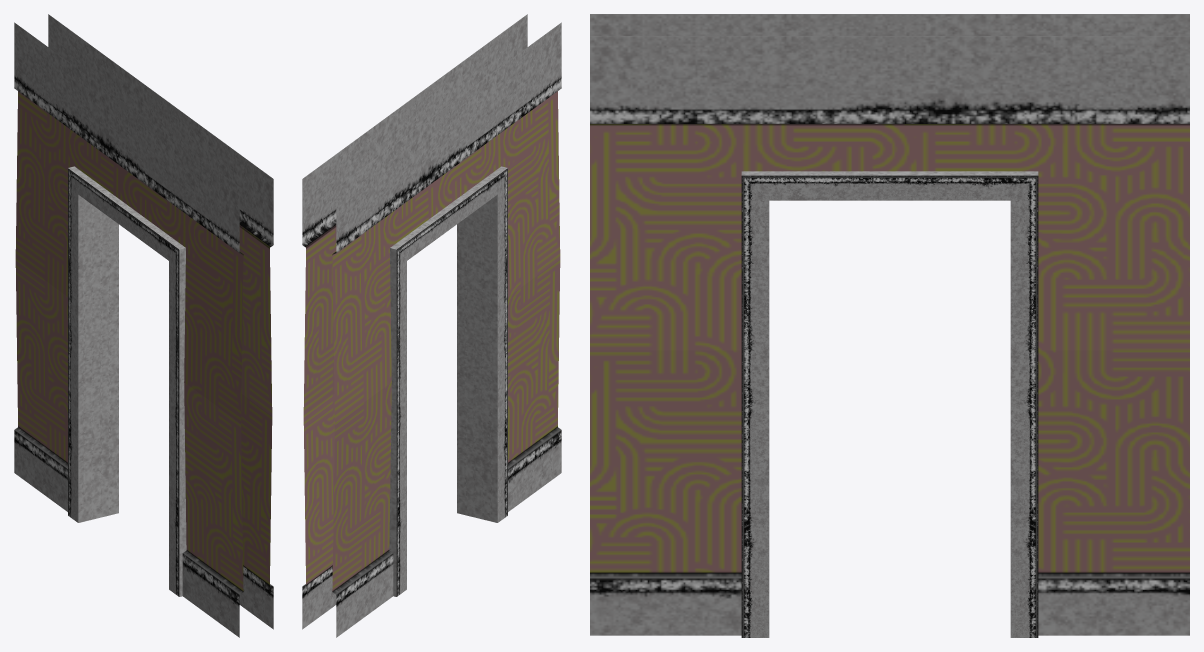
File: doorwallmodel.fbx
3 renders of one model, left to right at view 1: azimuth 30°, elevation 25°; view 2: azimuth 150°, elevation 25°; view 3: azimuth 270°, elevation 25°, orthographic. The views are drawn at different scales.
Parts seen in each view (by area): view 1: DoorwayAndFrame; view 2: DoorwayAndFrame; view 3: DoorwayAndFrame.
Boxes of the visible parts, x1=… form: DoorwayAndFrame: x1=14, y1=14, x2=273, y2=637; DoorwayAndFrame: x1=302, y1=14, x2=561, y2=637; DoorwayAndFrame: x1=590, y1=14, x2=1189, y2=637.
Bounding box in the file's own units: 26 × 274 × 249.
